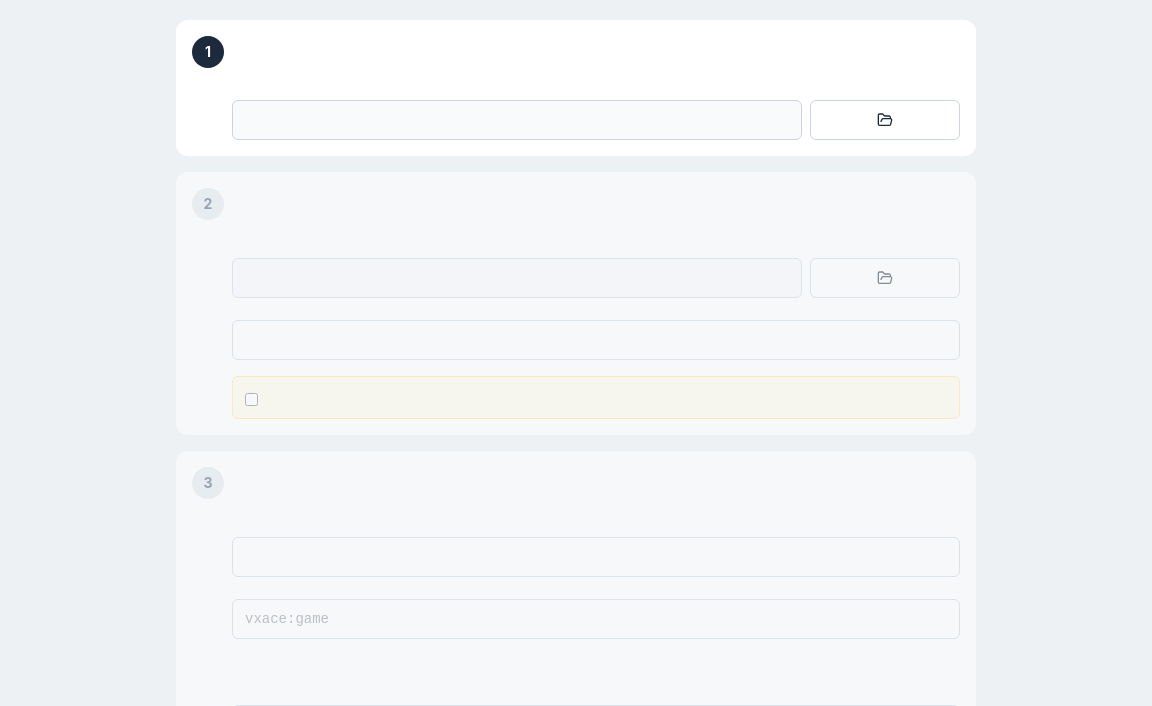
Test: App › outputs into a required subdirectory under the selected folder
What coordinates should you click on to do the following:
click the 1st button
I would click on:
 (885, 120)
Its box is [810,100,960,140].
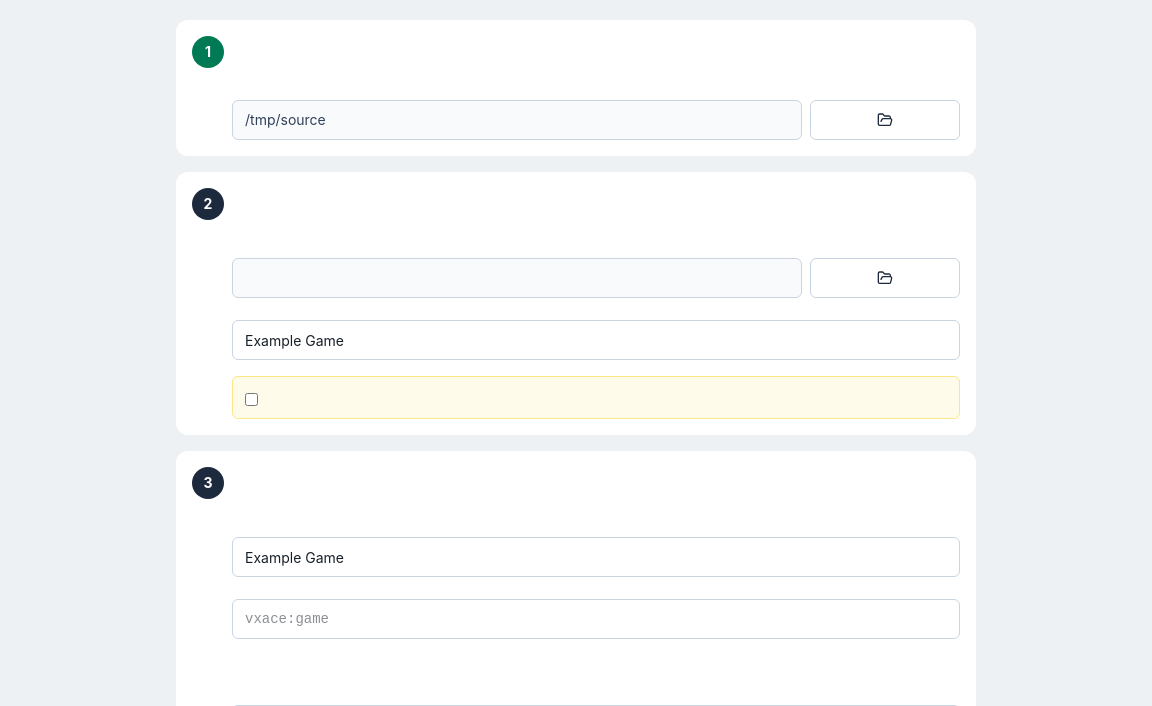
What coordinates should you click on to do the following:
click the 2nd button
I would click on:
 (885, 278)
Its box is [810,258,960,298].
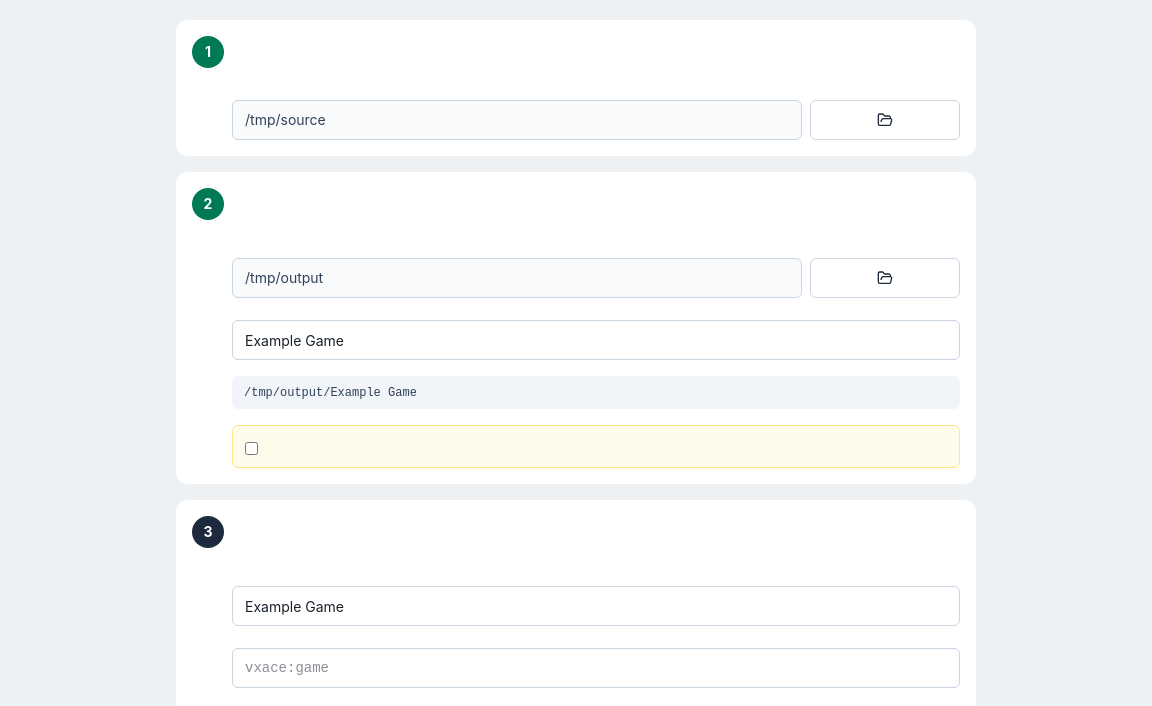
Now the text "/tmp/output/Example Game" is shown, box [244,386,417,400]
